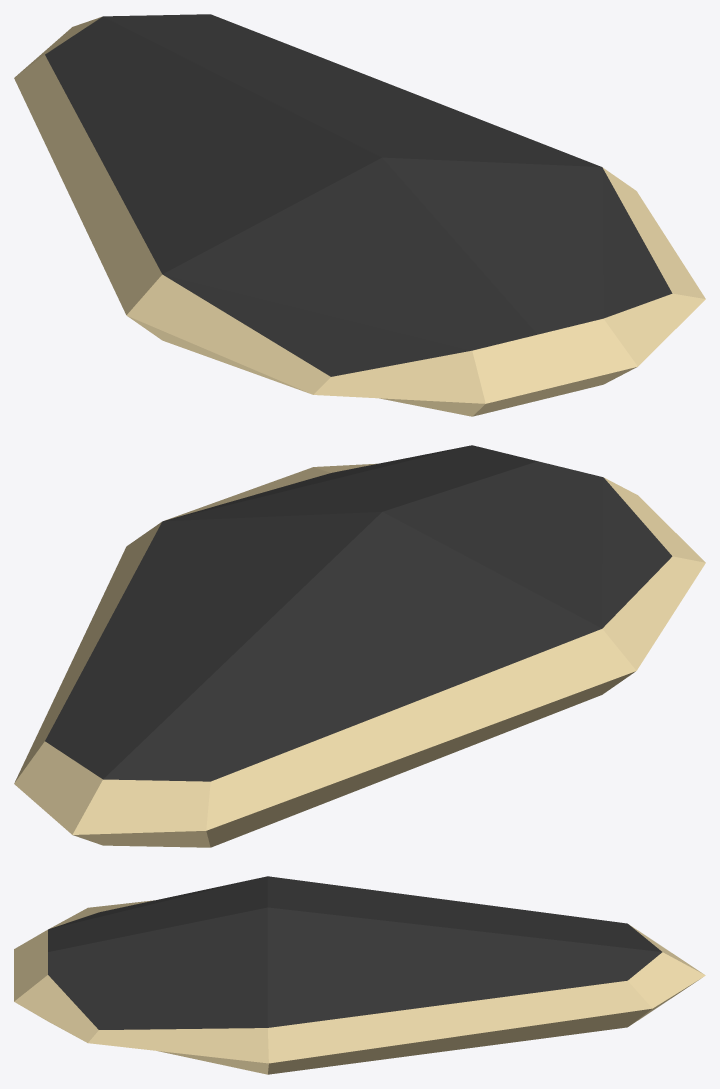
The model's file is Seed.fbx.
3 renders of one model, top to bottom at view 1: azimuth 30°, elevation 25°; view 2: azimuth 150°, elevation 25°; view 3: azimuth 270°, elevation 25°, orthographic. The views are drawn at different scales.
Visible parts, largest first — view 1: Seed; view 2: Seed; view 3: Seed.
Part boxes in pixels (x1,y1,x2,y2): Seed: (14,14,705,416); Seed: (14,445,705,847); Seed: (14,876,705,1074).
Size of the model in its own units: 45.14 by 16.27 by 75.
